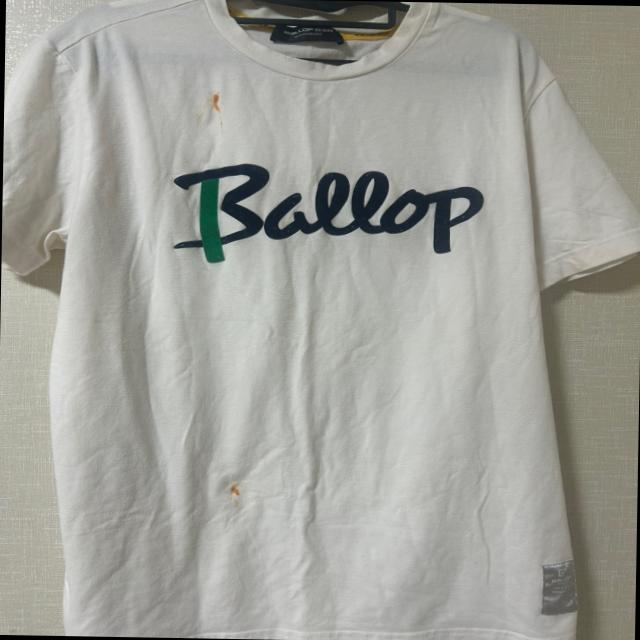stain: (202, 90, 230, 114), (214, 116, 232, 138), (225, 484, 242, 502)
